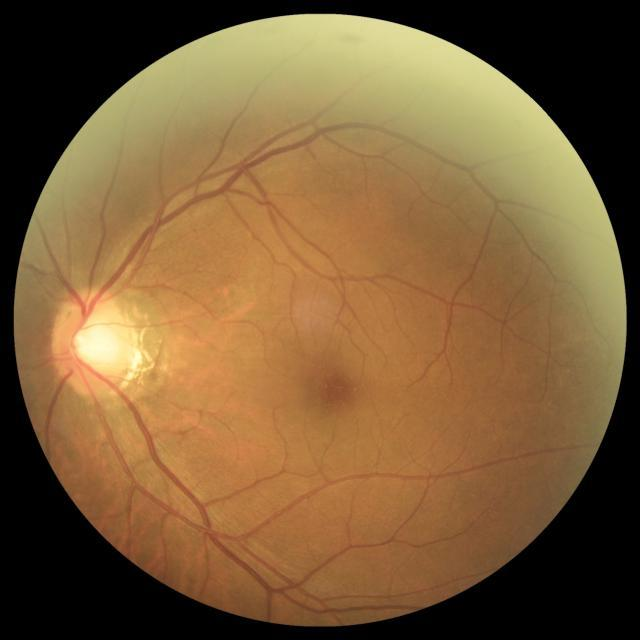OC: (72, 318, 118, 370)
OD: (51, 290, 136, 394)
